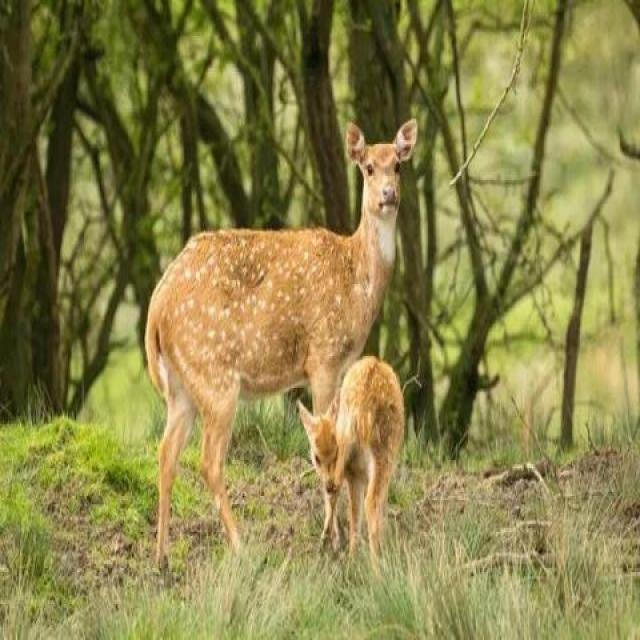deer: (128, 106, 410, 523), (262, 305, 424, 547)
